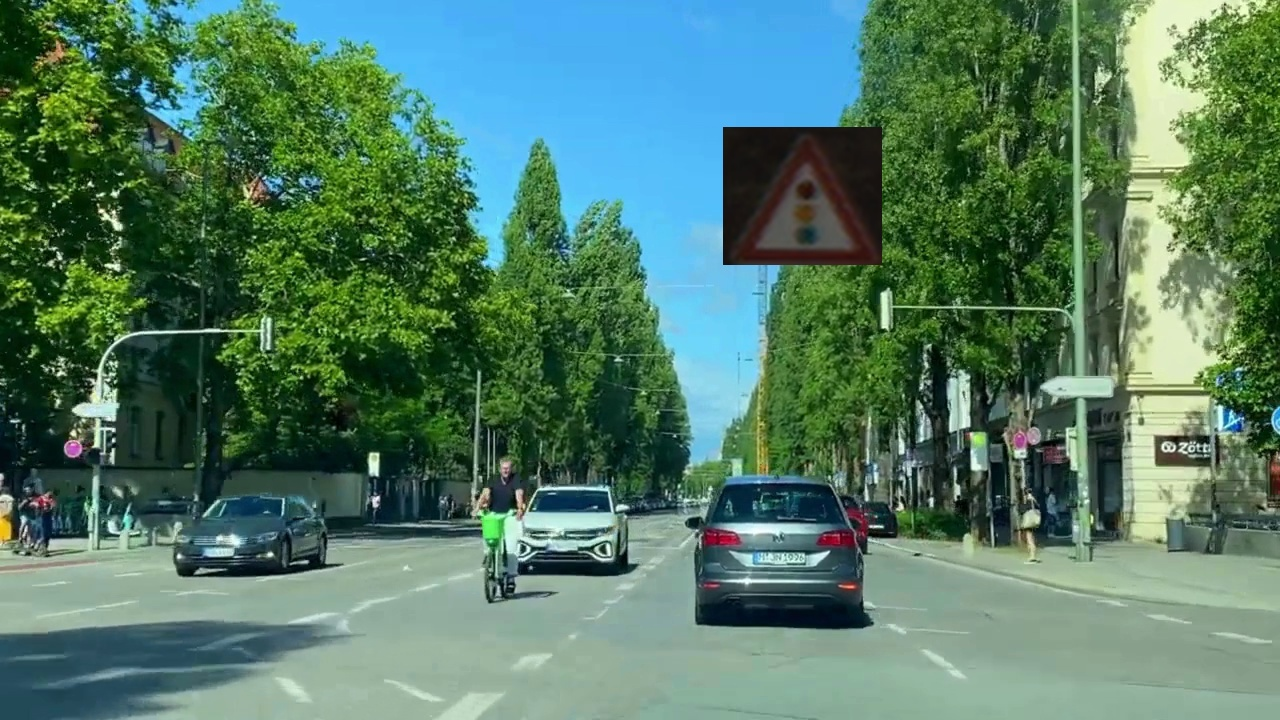Signals: (723, 127, 882, 265)
